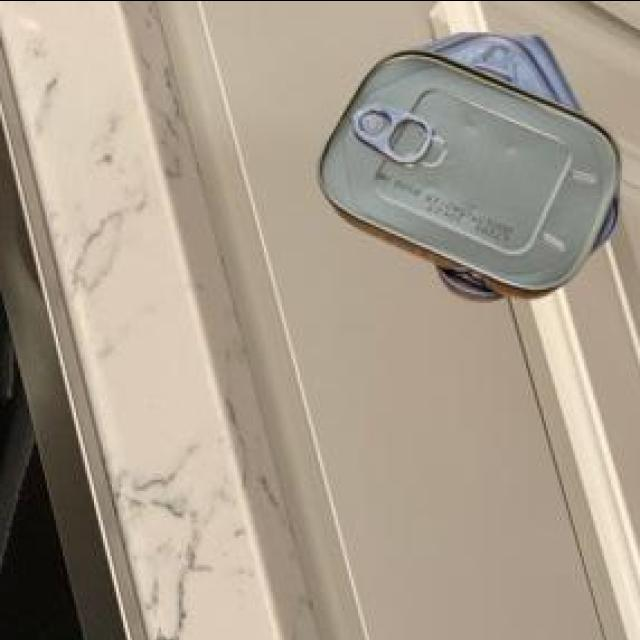logam: (314, 35, 619, 301)
